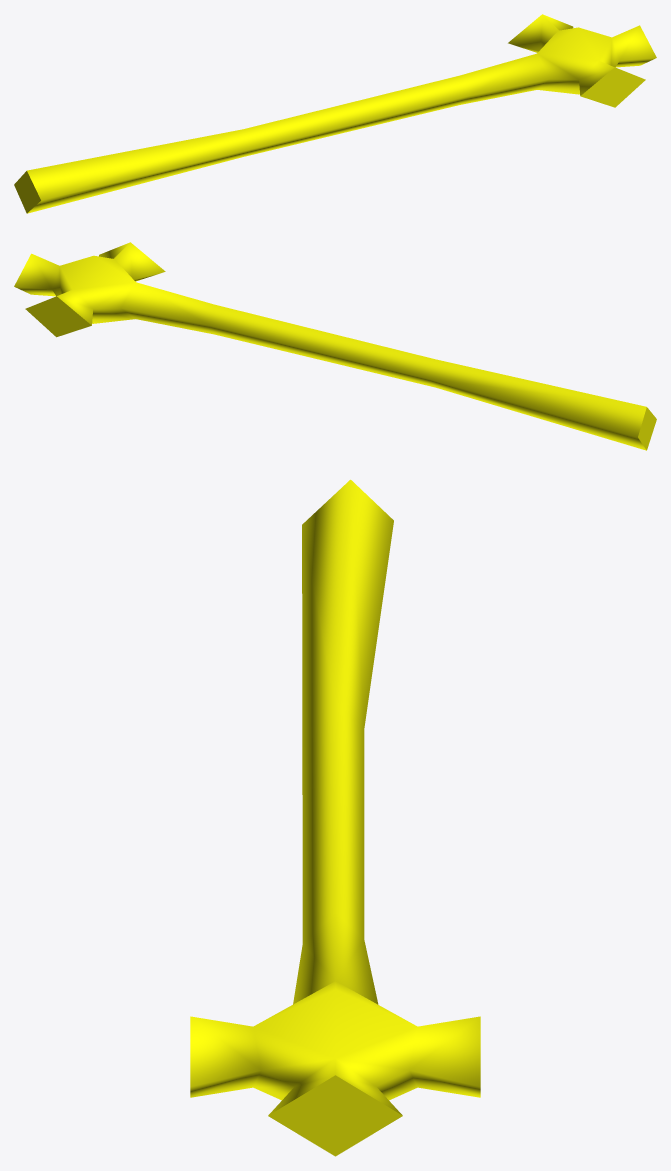
File: WK_weapon_staff_B.FBX.glb
The picture shows the model from 3 angles, top to bottom: view 1: azimuth 30°, elevation 25°; view 2: azimuth 150°, elevation 25°; view 3: azimuth 270°, elevation 25°; orthographic projection. The views are drawn at different scales.
Parts seen in each view (by area): view 1: WK_weapon_staff_B; view 2: WK_weapon_staff_B; view 3: WK_weapon_staff_B.
Part boxes in pixels (x1,y1,x2,y2): WK_weapon_staff_B: [14, 14, 656, 213]; WK_weapon_staff_B: [14, 242, 656, 450]; WK_weapon_staff_B: [190, 479, 480, 1156].
Bounding box in the file's own units: 62478 × 6567 × 12844.
